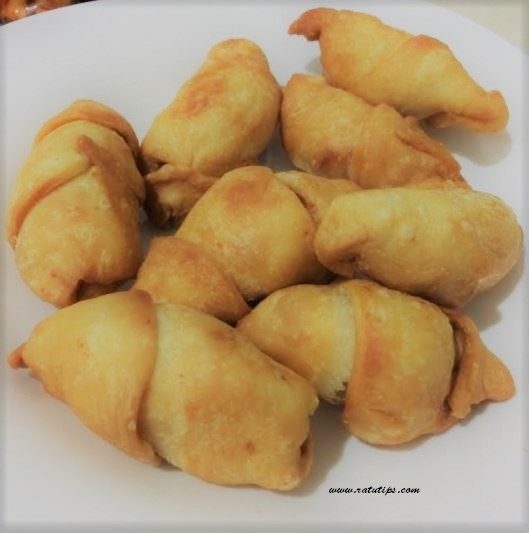pisang_molen: (10, 288, 323, 497), (239, 295, 517, 451), (286, 5, 506, 138), (7, 97, 149, 295), (315, 184, 522, 309)
